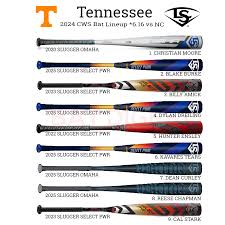baseball bat: (37, 34, 205, 50), (34, 182, 204, 197), (35, 121, 203, 136), (36, 57, 203, 72), (35, 202, 202, 217), (34, 162, 203, 176), (34, 142, 204, 155), (34, 101, 203, 114), (37, 79, 203, 92)
